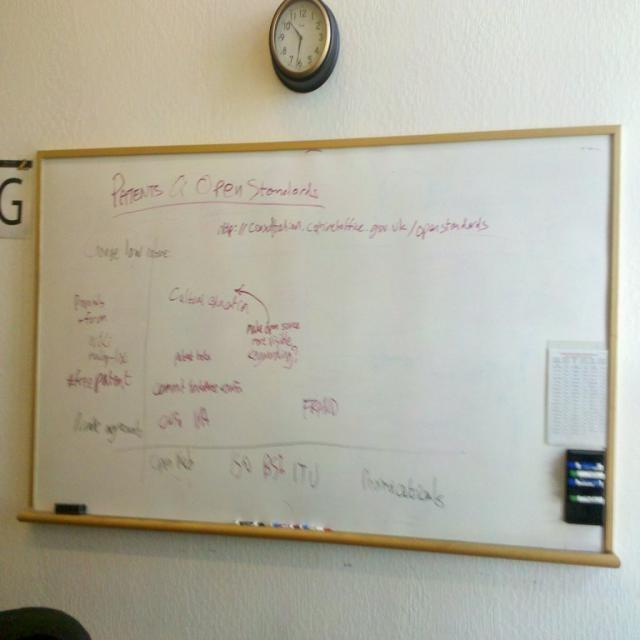Whiteboard: (17, 123, 620, 568)
